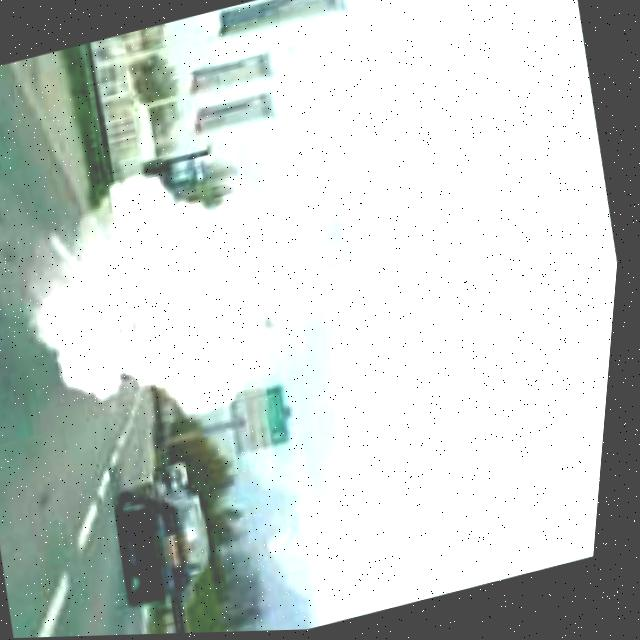Smoke: (0, 121, 358, 464)
